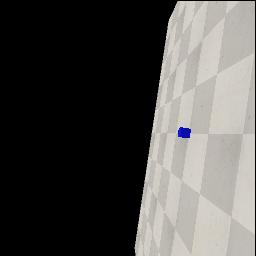box: (178, 127, 191, 138)
